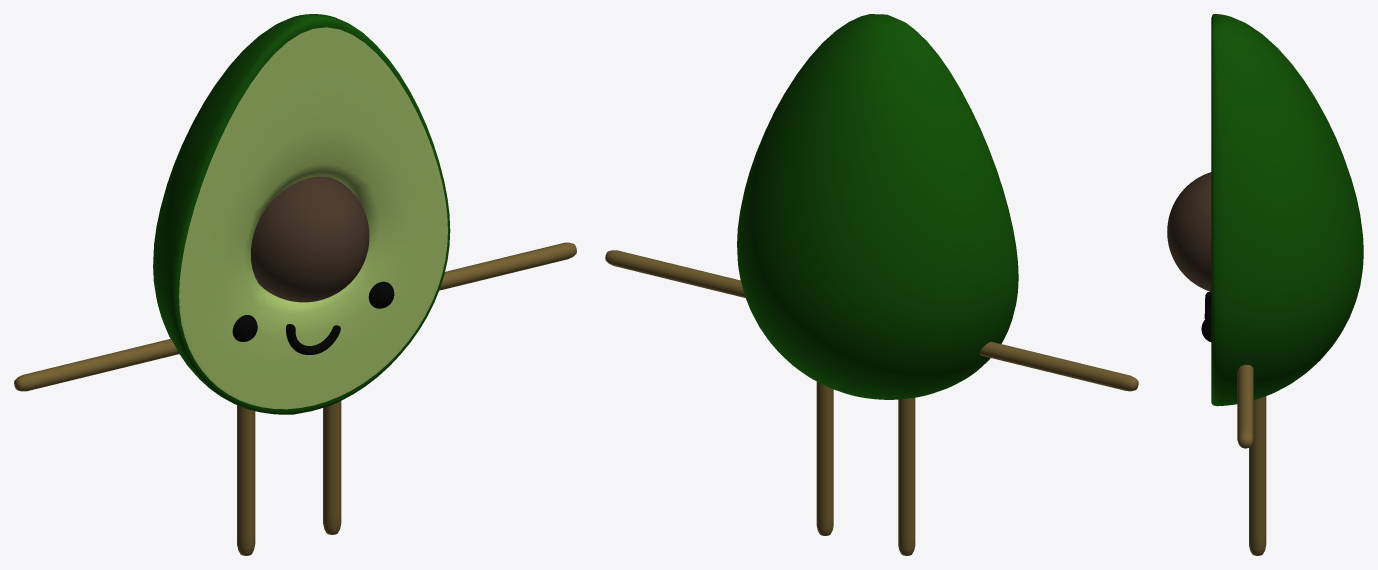
File: cute-cartoon-character.glb
3 views of the same model, side by side, from view 1: azimuth 30°, elevation 25°; view 2: azimuth 150°, elevation 25°; view 3: azimuth 270°, elevation 25° (orthographic). The views are drawn at different scales.
Visible parts, largest first — view 1: Sphere, Sphere.001, Cylinder.001, Circle; view 2: Sphere, Cylinder.001; view 3: Sphere, Sphere.001, Cylinder.001.
Boxes of the visible parts, left/top/right/bottom form: Sphere: left=153, top=14, right=450, bottom=414; Sphere.001: left=251, top=176, right=369, bottom=302; Cylinder.001: left=14, top=242, right=576, bottom=555; Circle: left=286, top=324, right=340, bottom=354; Sphere: left=737, top=14, right=1018, bottom=399; Cylinder.001: left=605, top=250, right=1138, bottom=555; Sphere: left=1211, top=14, right=1363, bottom=406; Sphere.001: left=1167, top=172, right=1211, bottom=291; Cylinder.001: left=1237, top=364, right=1266, bottom=555.
Size of what is drawn, in the model's own units: 3.97 by 3.68 by 1.27.
